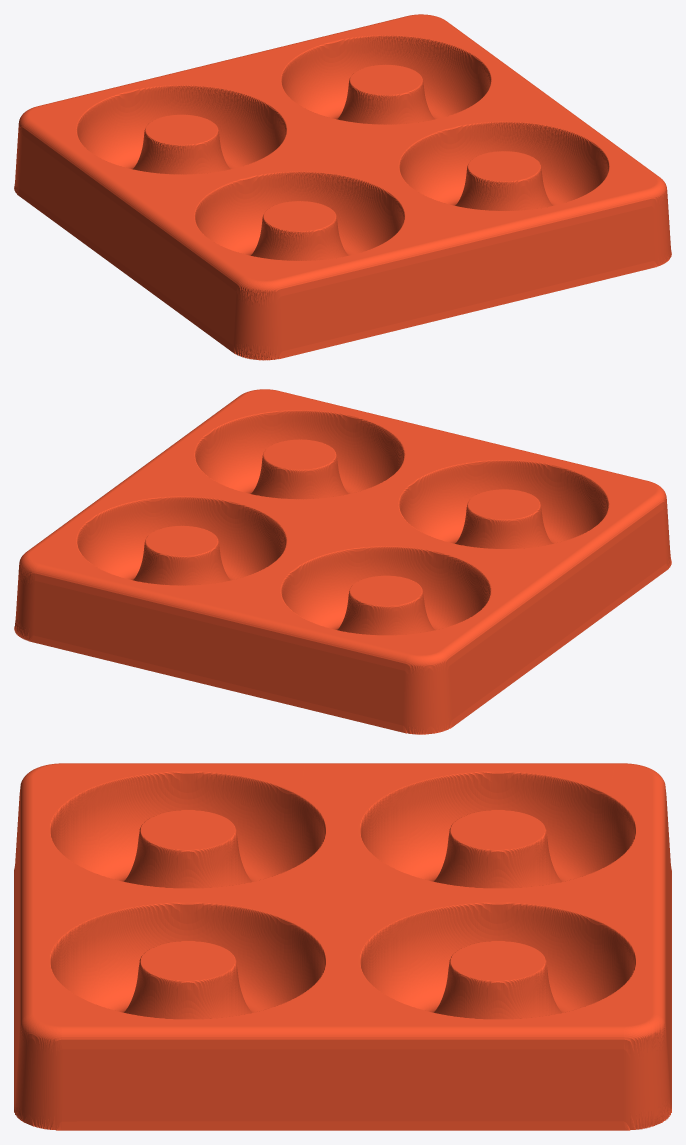
Rendered from mold.glb.
3 views of the same model, one above another, from view 1: azimuth 30°, elevation 25°; view 2: azimuth 150°, elevation 25°; view 3: azimuth 270°, elevation 25° (orthographic). The views are drawn at different scales.
Parts seen in each view (by area): view 1: geometry_0; view 2: geometry_0; view 3: geometry_0.
Part boxes in pixels (x1,y1,x2,y2): geometry_0: [14, 14, 671, 360]; geometry_0: [14, 389, 671, 734]; geometry_0: [14, 763, 671, 1130].
Bounding box in the file's own units: 0.1225 × 0.0197 × 0.1225.
